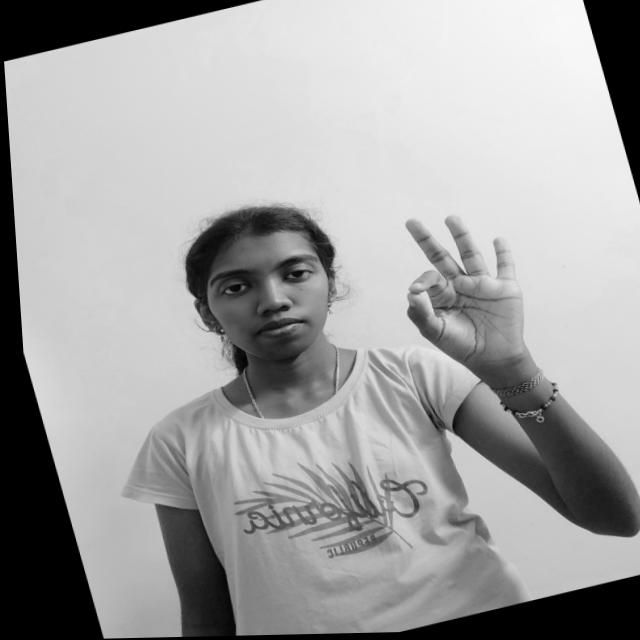Superb: (367, 186, 553, 397)
